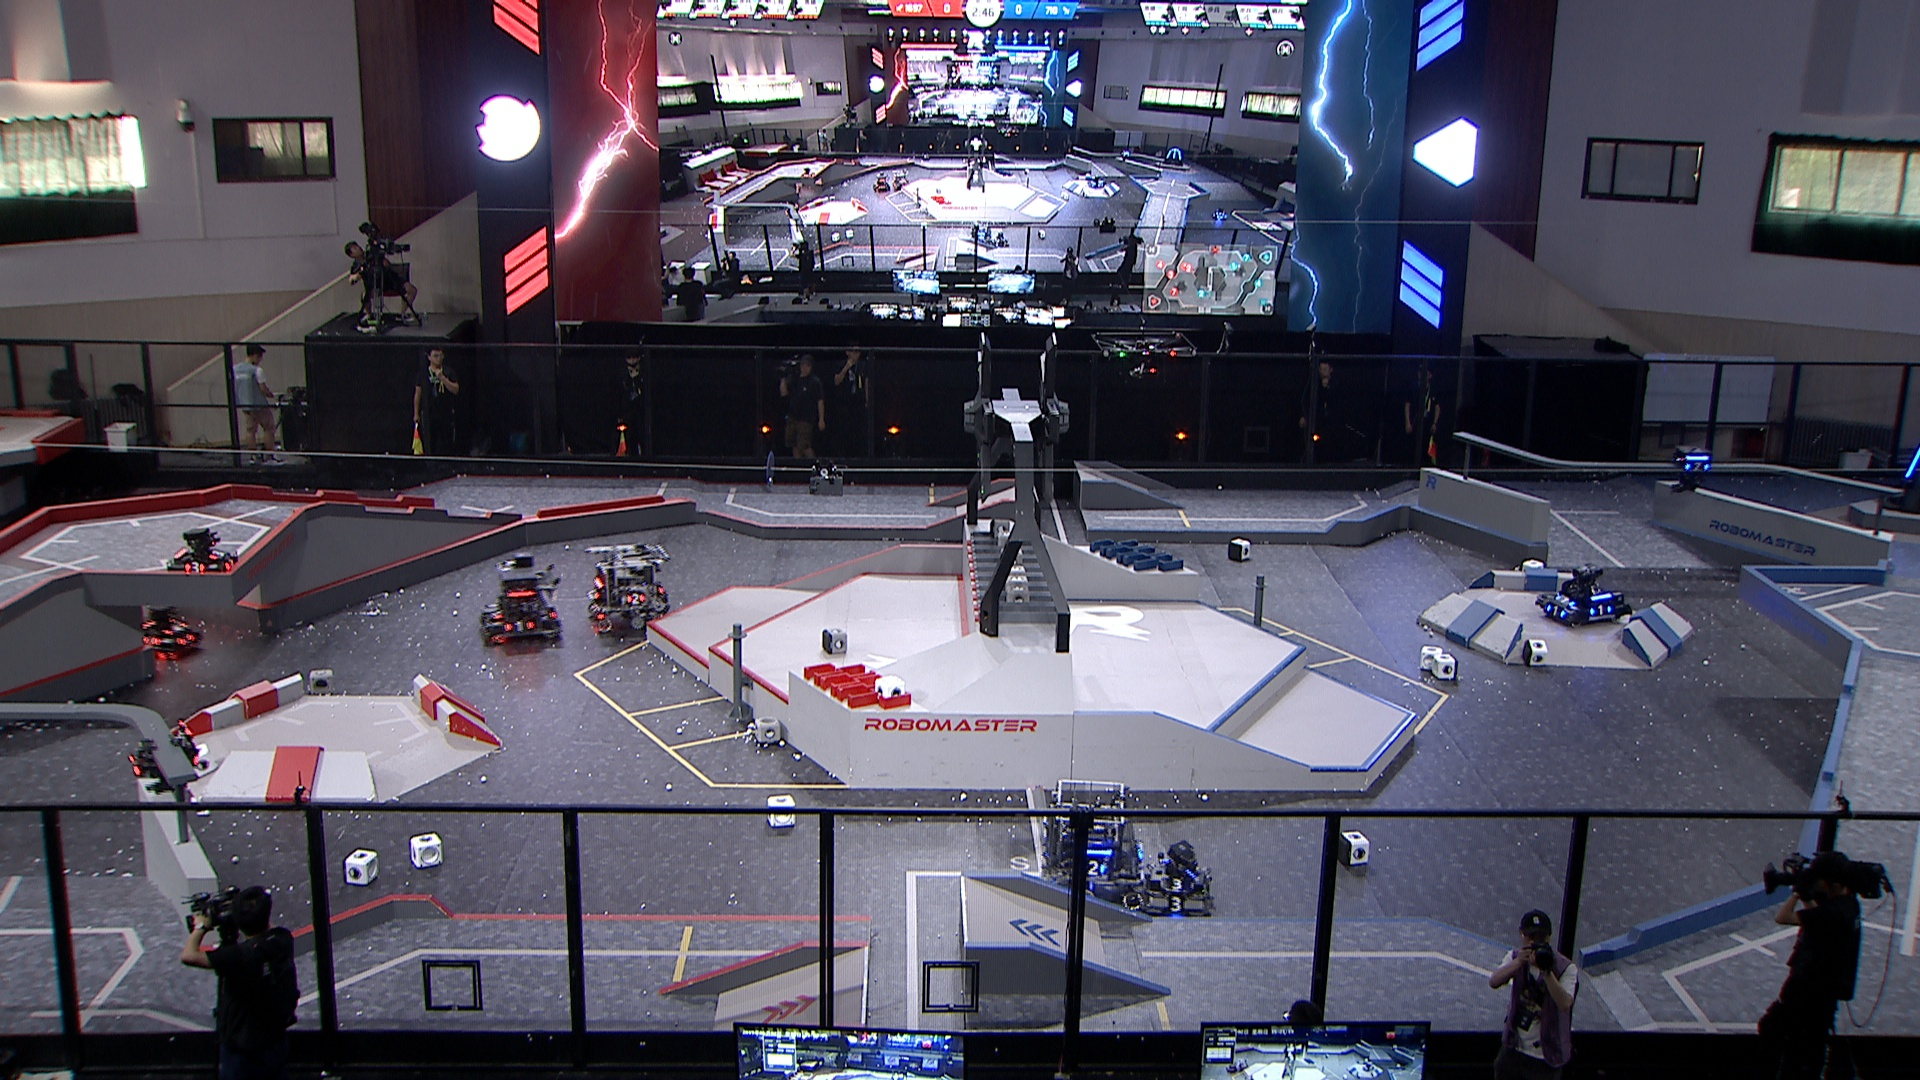armor: (1162, 876, 1197, 893), (1902, 448, 1920, 481), (504, 618, 534, 636), (1087, 858, 1109, 878), (127, 756, 144, 778), (1588, 604, 1615, 617), (1163, 897, 1188, 911), (1553, 593, 1578, 608), (1545, 604, 1567, 621), (164, 621, 187, 636), (1684, 462, 1712, 472), (222, 556, 240, 571), (174, 636, 196, 647), (626, 593, 646, 607), (183, 560, 204, 572), (142, 636, 164, 647), (491, 607, 506, 621), (206, 549, 225, 559)
base: (1882, 440, 1920, 517)
car: (1040, 779, 1147, 913), (584, 545, 675, 637), (480, 553, 564, 647), (1532, 560, 1629, 629), (1139, 840, 1216, 916), (121, 600, 202, 659), (166, 526, 243, 585)
ignore: (891, 167, 911, 194), (1162, 148, 1185, 167), (989, 229, 1010, 251), (874, 171, 891, 195), (1087, 171, 1106, 190), (972, 224, 992, 243), (1211, 207, 1229, 223), (787, 200, 800, 222), (800, 167, 818, 181), (1120, 149, 1131, 164)
watcher: (125, 719, 210, 796), (1671, 442, 1717, 495)
